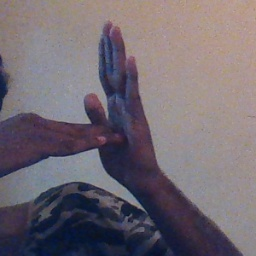Z: (29, 18, 155, 186)
